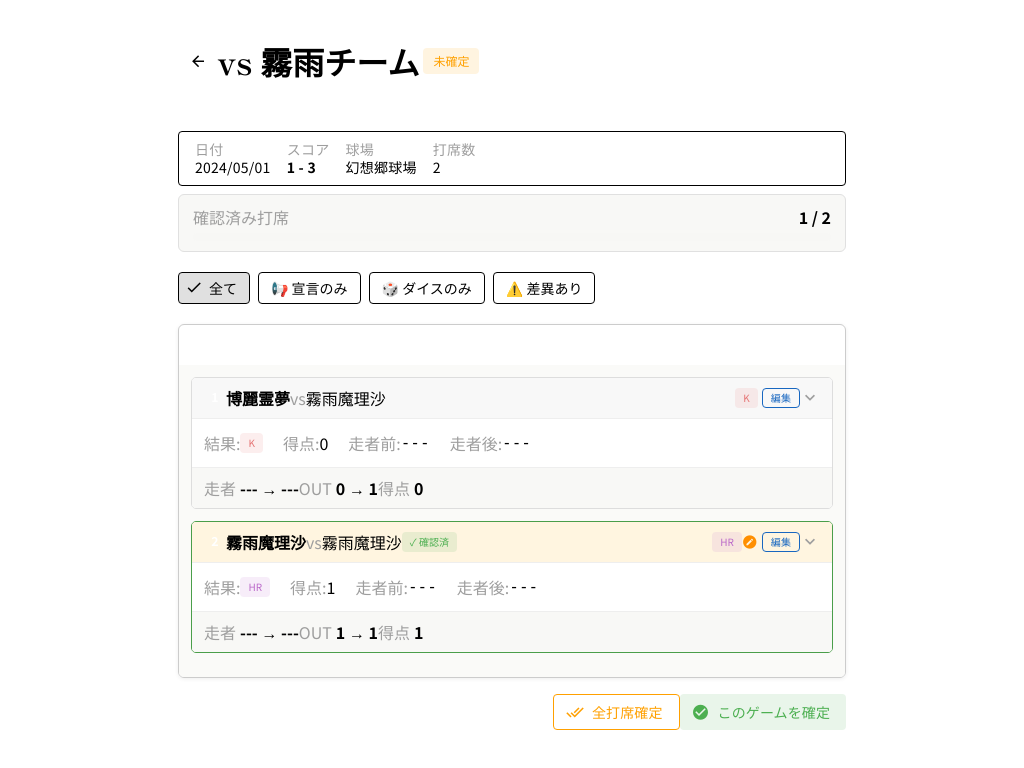
Test: GameRecordDetailView › 全打席確定ボタンクリックでダイアログが開くこと
Click the button "全打席確定".
click(616, 712)  # box [553,694,680,730]
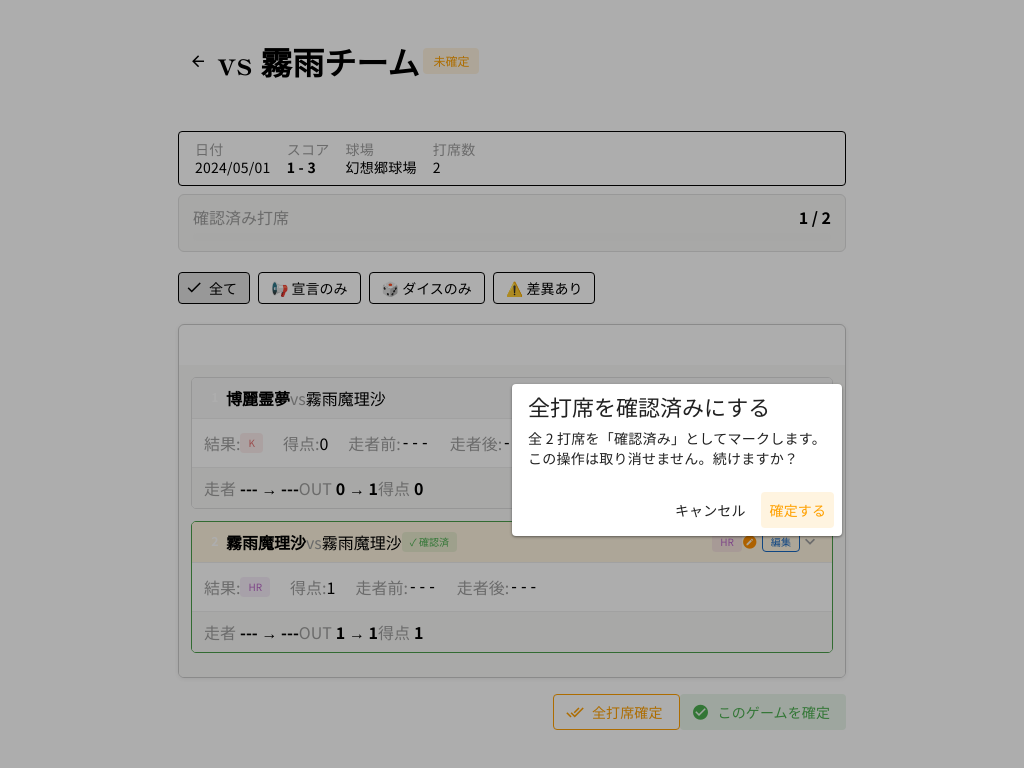
Check: the text "全打席を確認済みにする" is shown, box [528,390,770,422]
